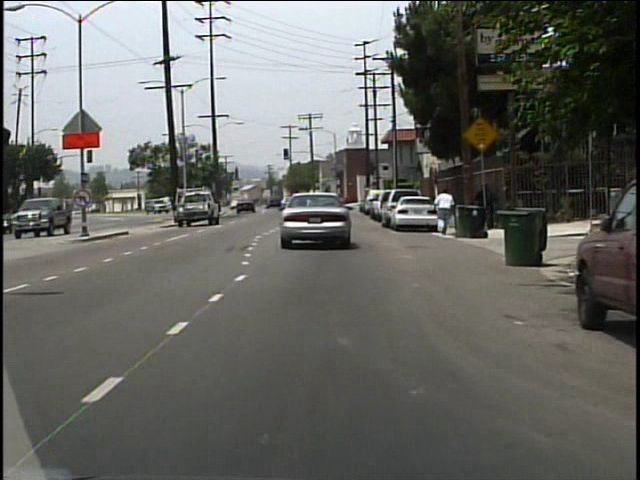person: (433, 187, 456, 238)
